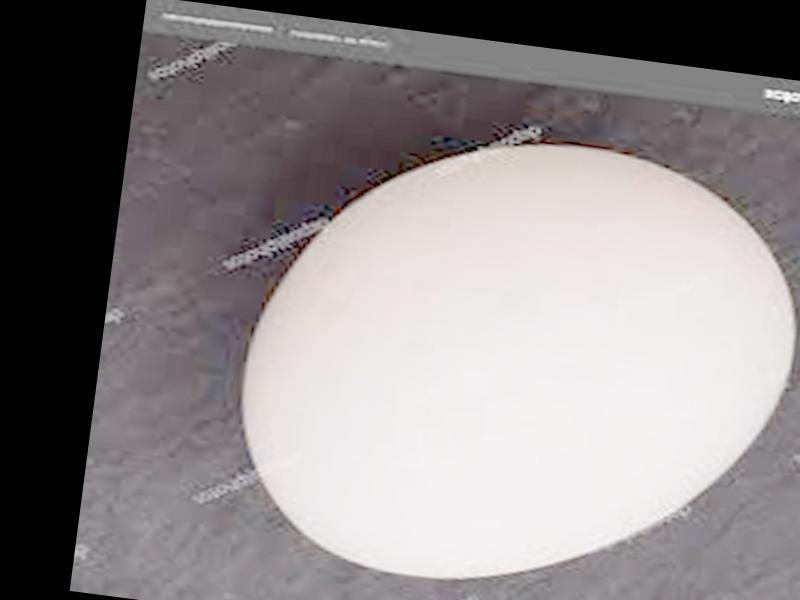Eggs: (222, 106, 800, 600)
